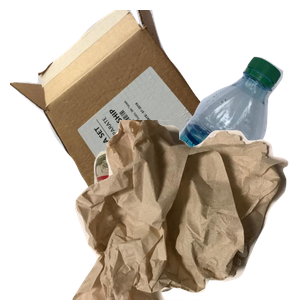cardboard: (10, 10, 227, 190)
glass: (91, 142, 260, 300)
plastic: (142, 54, 300, 234)
trash: (70, 120, 300, 300)
